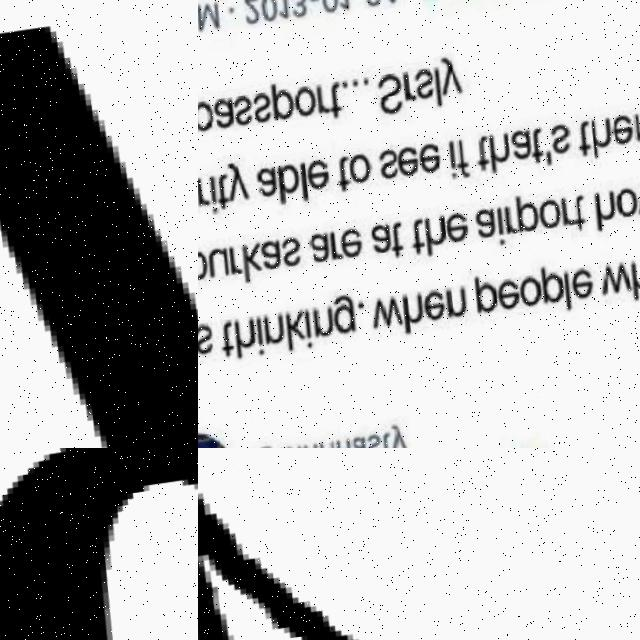0: (259, 0, 280, 23), (318, 0, 341, 14)
1: (276, 0, 291, 20), (337, 0, 352, 10)
2: (242, 0, 261, 26), (363, 0, 382, 9)
3: (288, 0, 309, 19)
Q: (0, 448, 198, 640)
R: (198, 448, 640, 640)
V: (0, 0, 198, 448)
